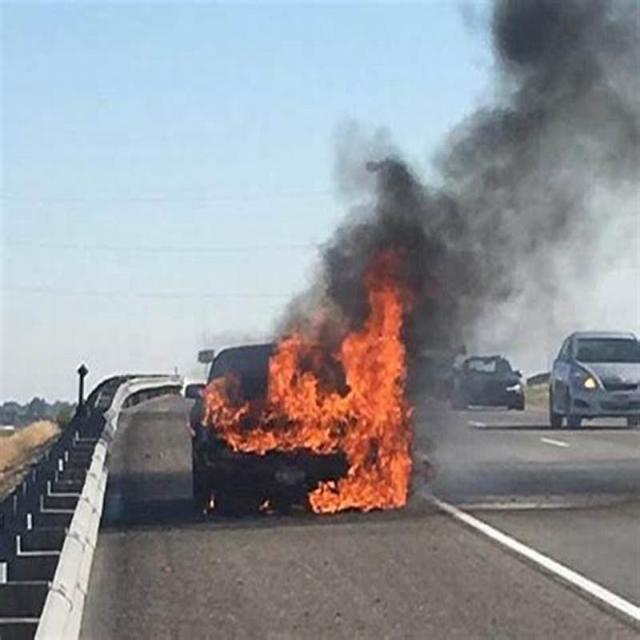Fire: (270, 340, 412, 458), (318, 459, 411, 514)
Smoke: (442, 138, 602, 302)
